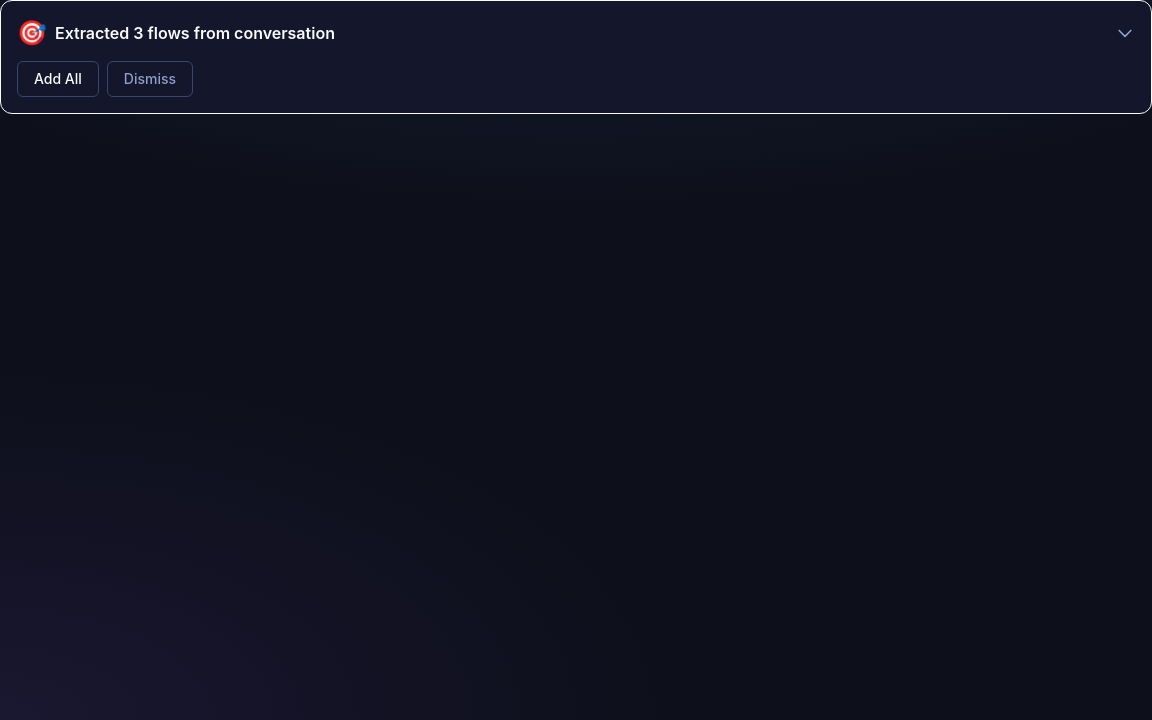
FlowExtractionNotification › collapses when header is clicked again
Step 1. Click the button "🎯 Extracted 3 flows from conversation" → (94, 33), box [17,17,1135,49]
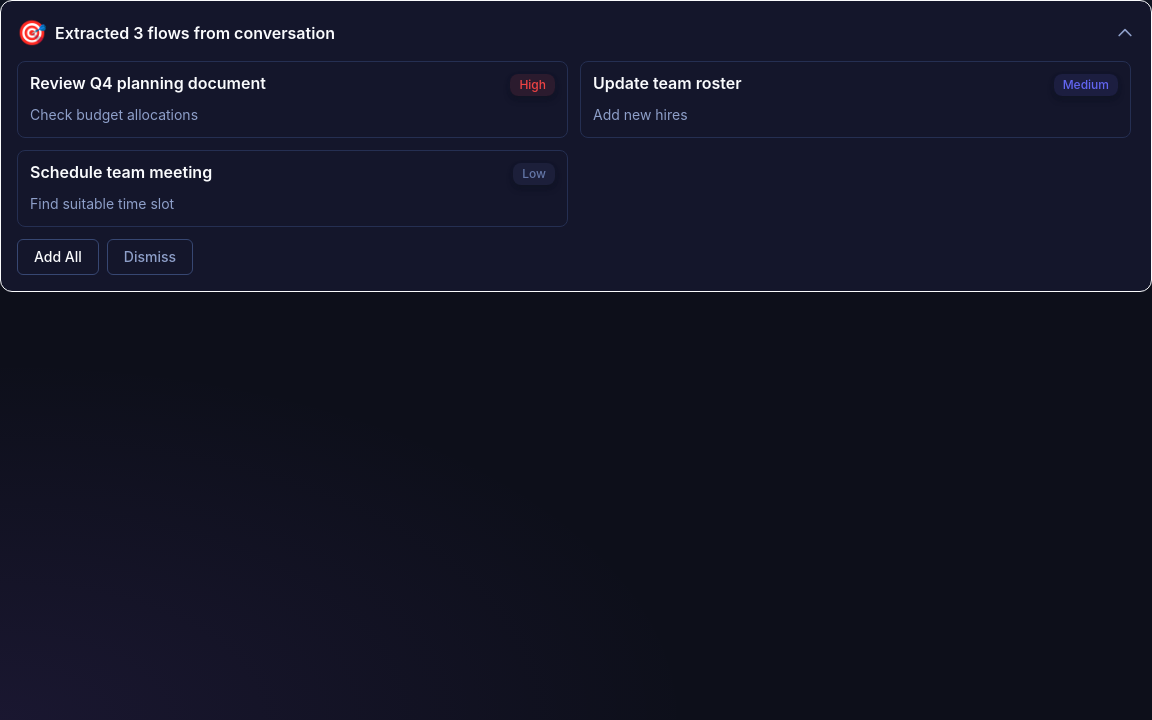
Expected: the button "🎯 Extracted 3 flows from conversation" is expanded
Step 2. Click the button "🎯 Extracted 3 flows from conversation" → (94, 33), box [17,17,1135,49]
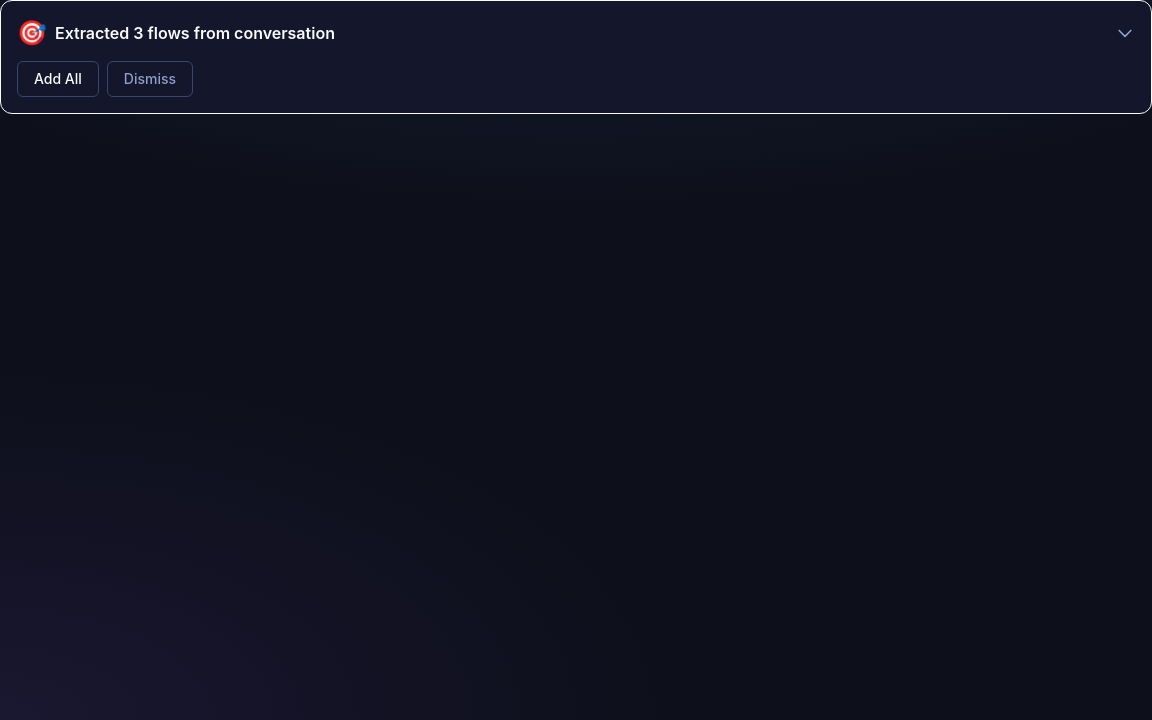
Expected: the button "🎯 Extracted 3 flows from conversation" is collapsed, [17,17,1135,49]
